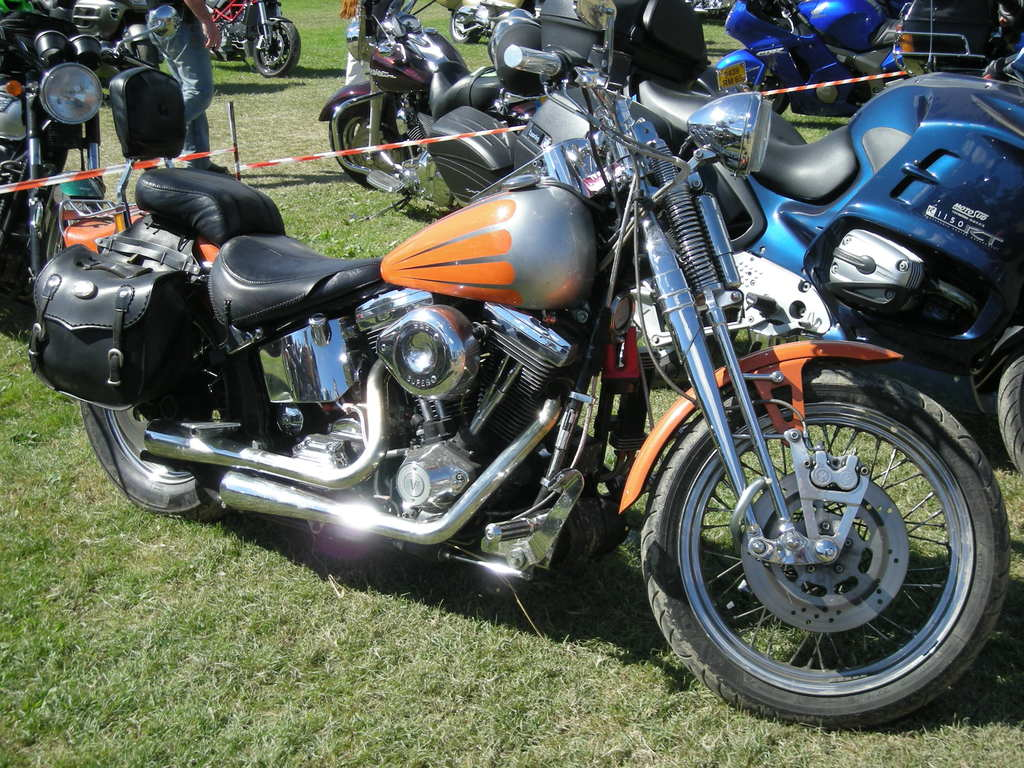Motorcycle: (28, 42, 1003, 731), (428, 36, 1023, 484), (0, 4, 176, 329), (321, 7, 540, 209), (703, 0, 968, 110), (193, 0, 307, 78), (83, 7, 167, 76)
